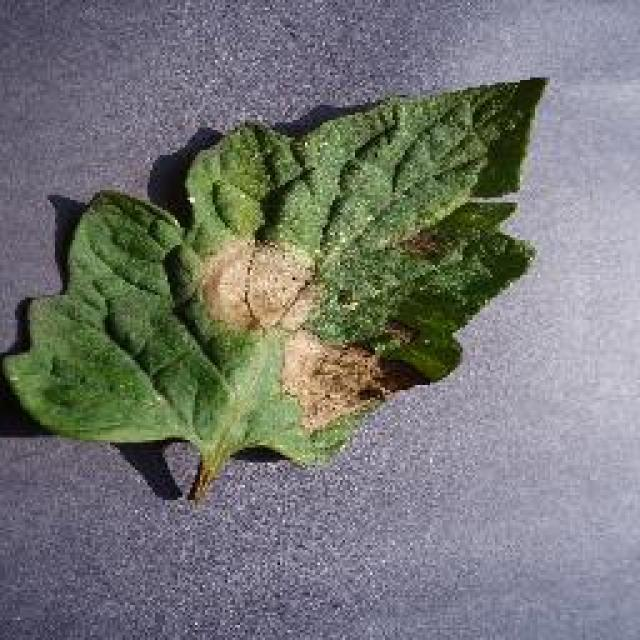Tomato late blight leaf: (1, 78, 554, 472)
